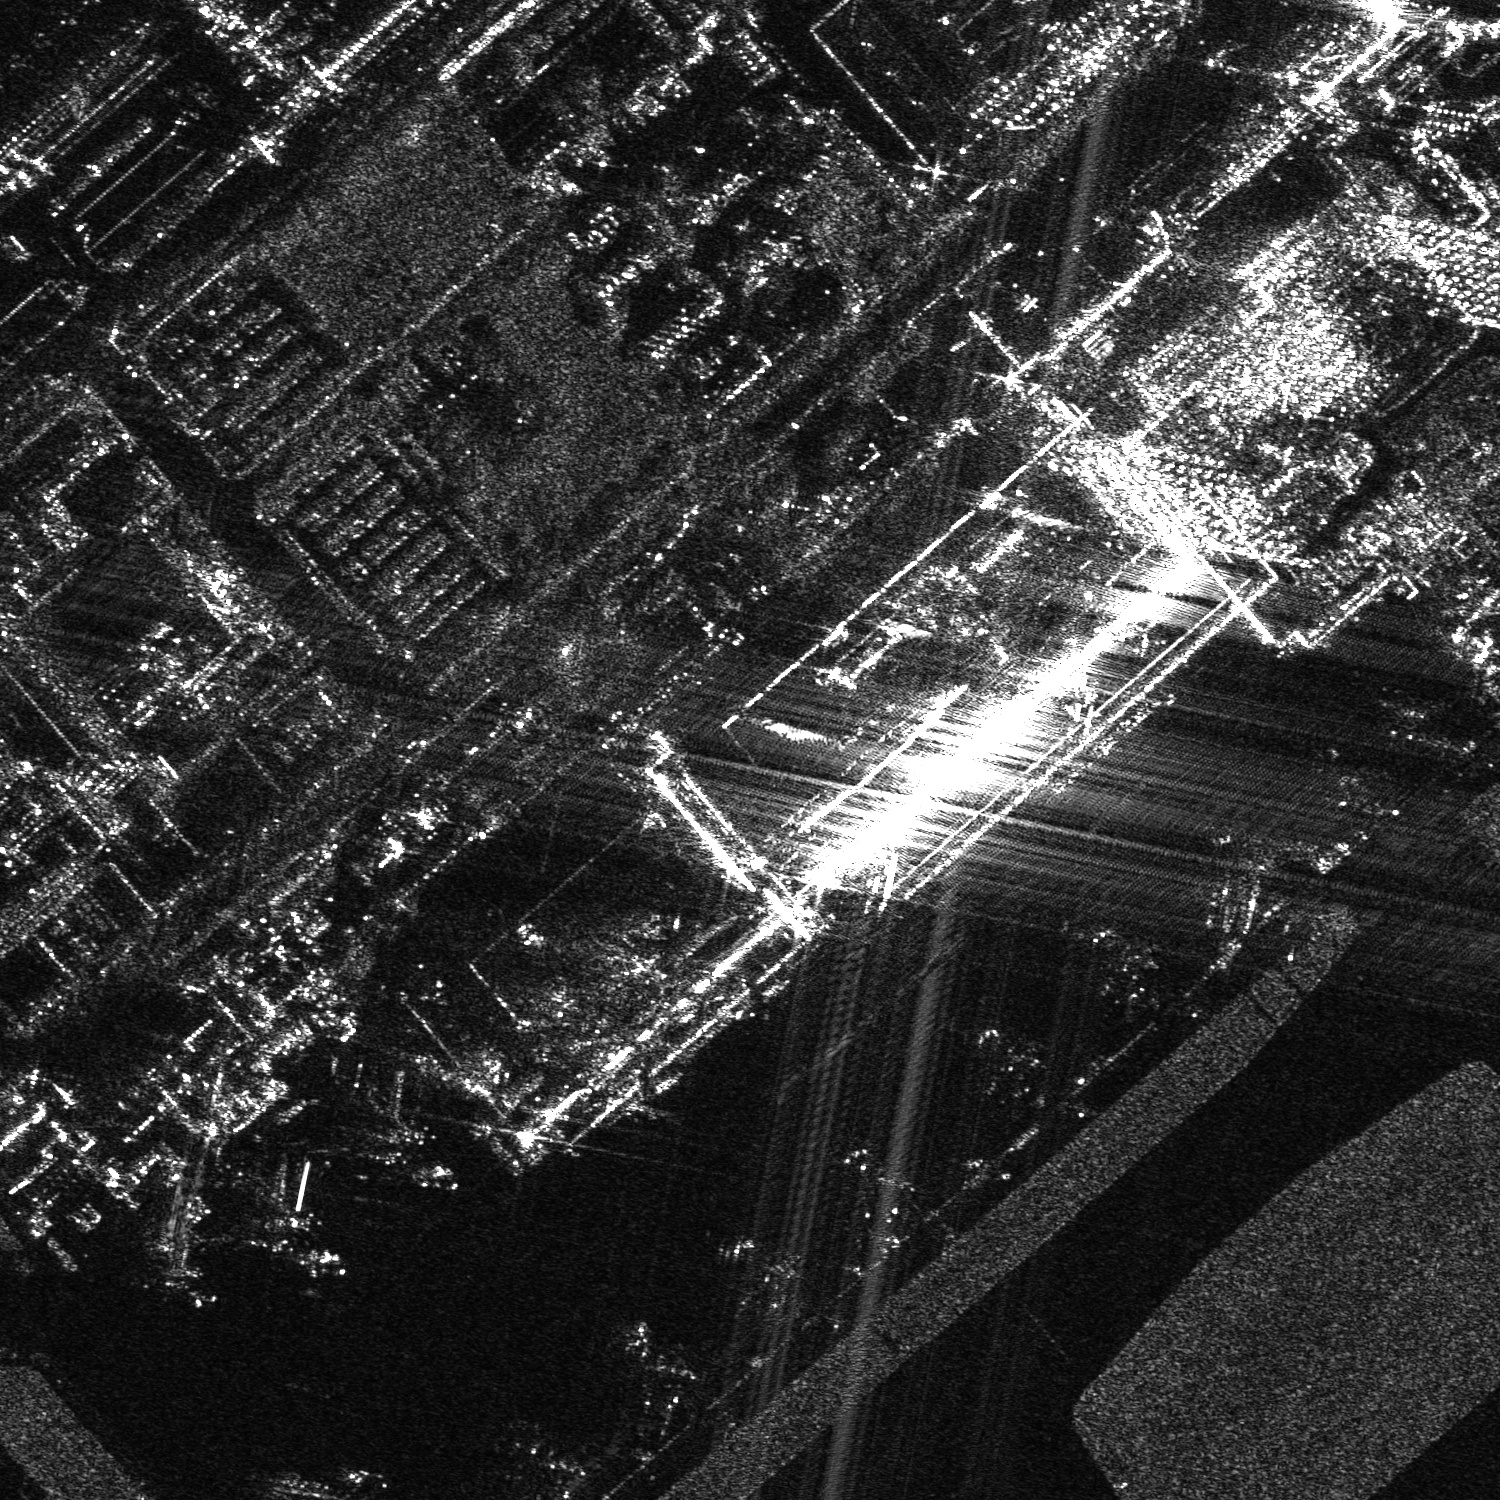Boeing737: (1309, 740, 1400, 815), (1372, 690, 1457, 751), (126, 1220, 196, 1288)
Boeing787: (618, 1310, 712, 1413), (228, 1151, 320, 1247), (342, 1065, 435, 1146)
other: (834, 1129, 931, 1238), (716, 1229, 815, 1324), (963, 1012, 1056, 1113), (1082, 922, 1174, 1015), (262, 1464, 389, 1499)
